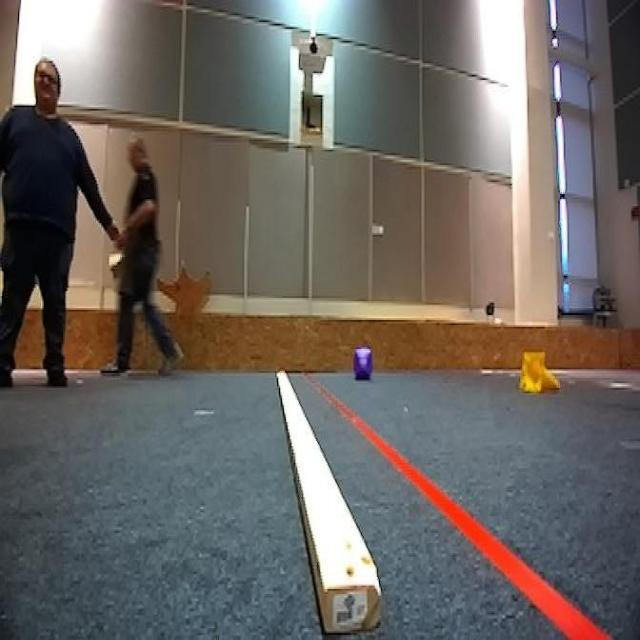frc_cone: (517, 352, 560, 395)
frc_cube: (352, 346, 376, 381)
